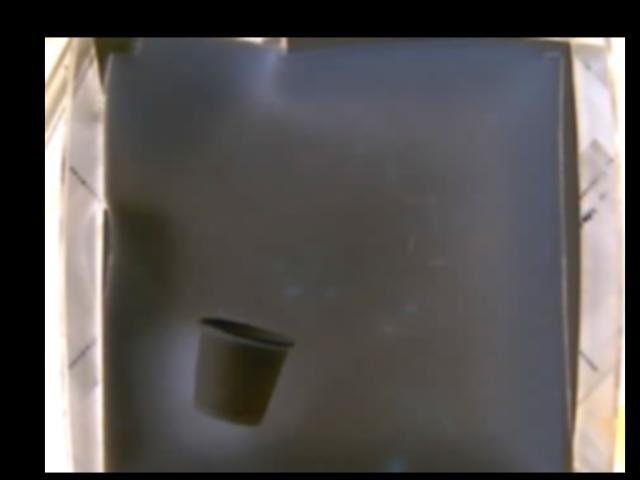Cup: (189, 316, 296, 425)
